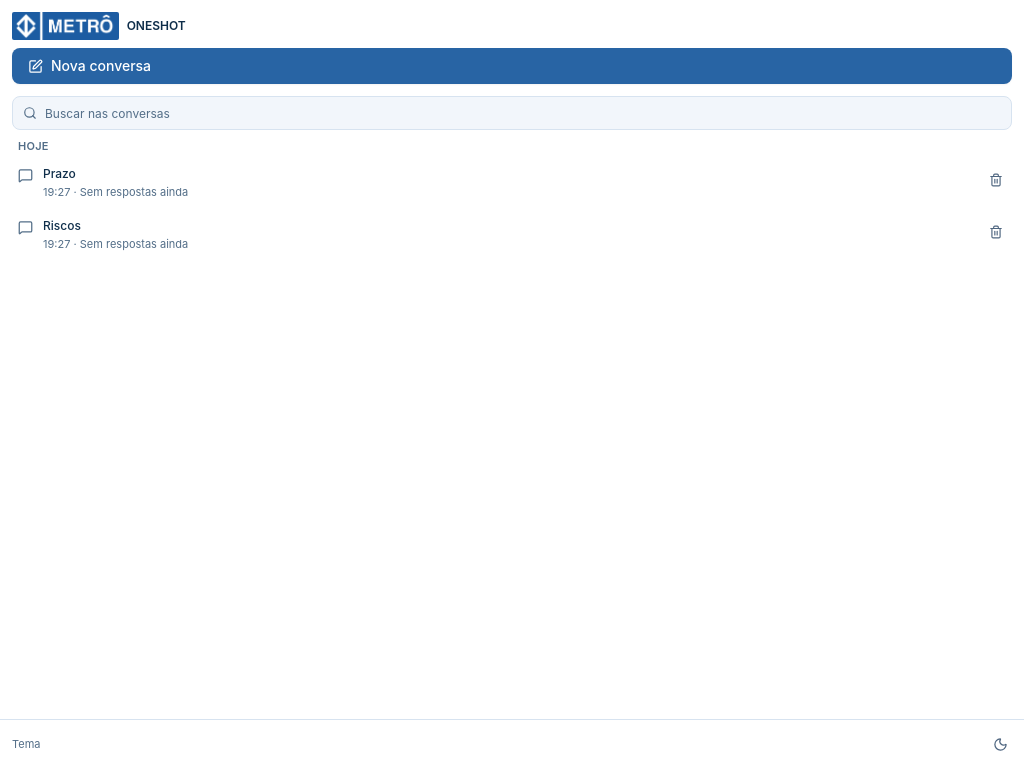
ConversationSidebar › busca por título ou conteúdo ignorando caixa e espaços, e informa ausência
The image size is (1024, 768).
Type "  PRAZO  " into the search field labelled "Buscar nas conversas". click: x=523, y=113
box: [45,97,1001,129]
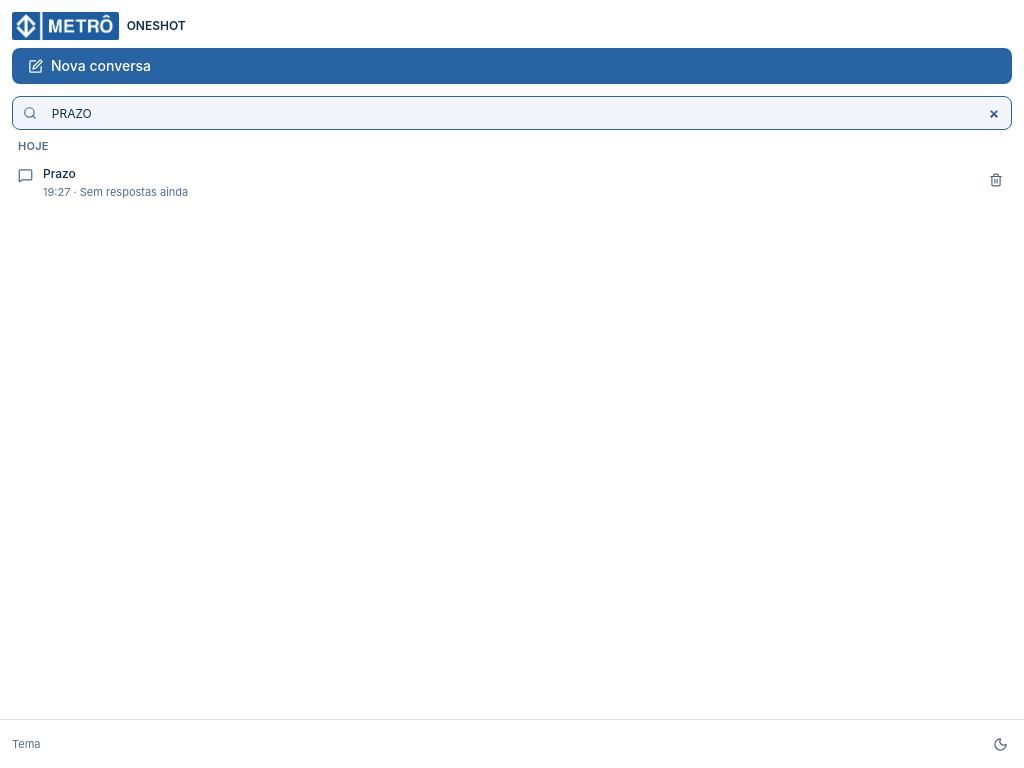
Expected: the button "Prazo 19:27 · Sem respostas ainda" is shown, [8,158,1016,208]
Expected: the button "Riscos" is gone
Replace the text in the search field named "Buscar nas conversas" with "orçamento". click: x=523, y=113
box: [45,97,1001,129]
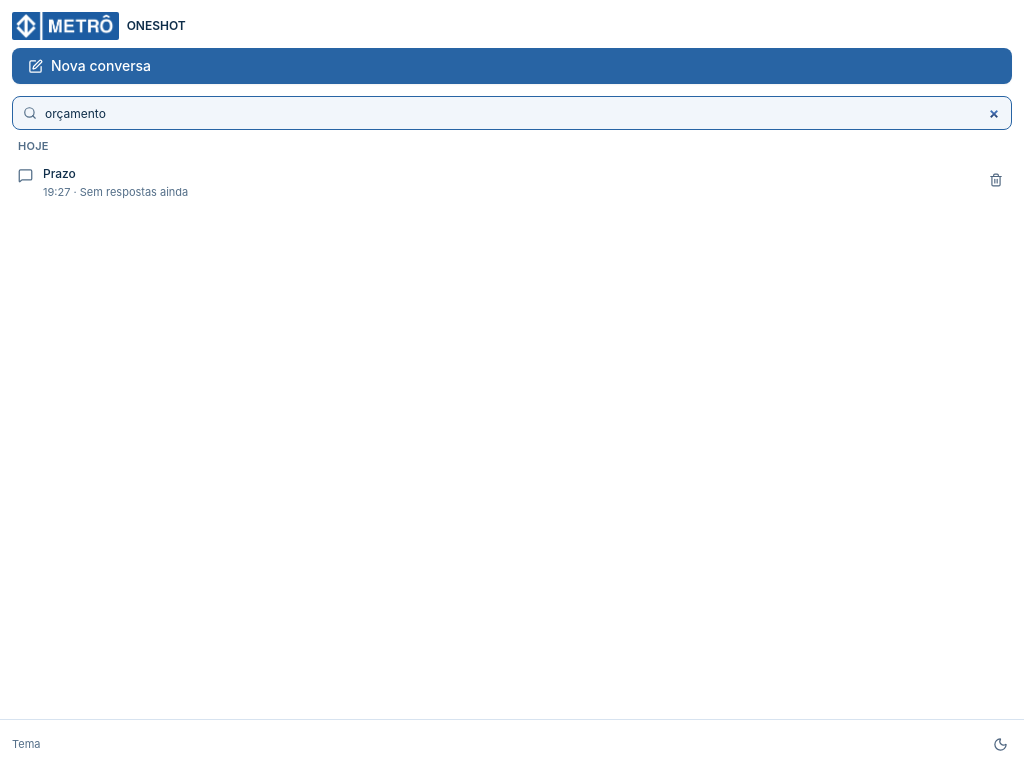
Expected: the button "Prazo 19:27 · Sem respostas ainda" is shown, [8,158,1016,208]
Replace the text in the search field named "Buscar nas conversas" with "inexistente". click: x=523, y=113
box: [45,97,1001,129]
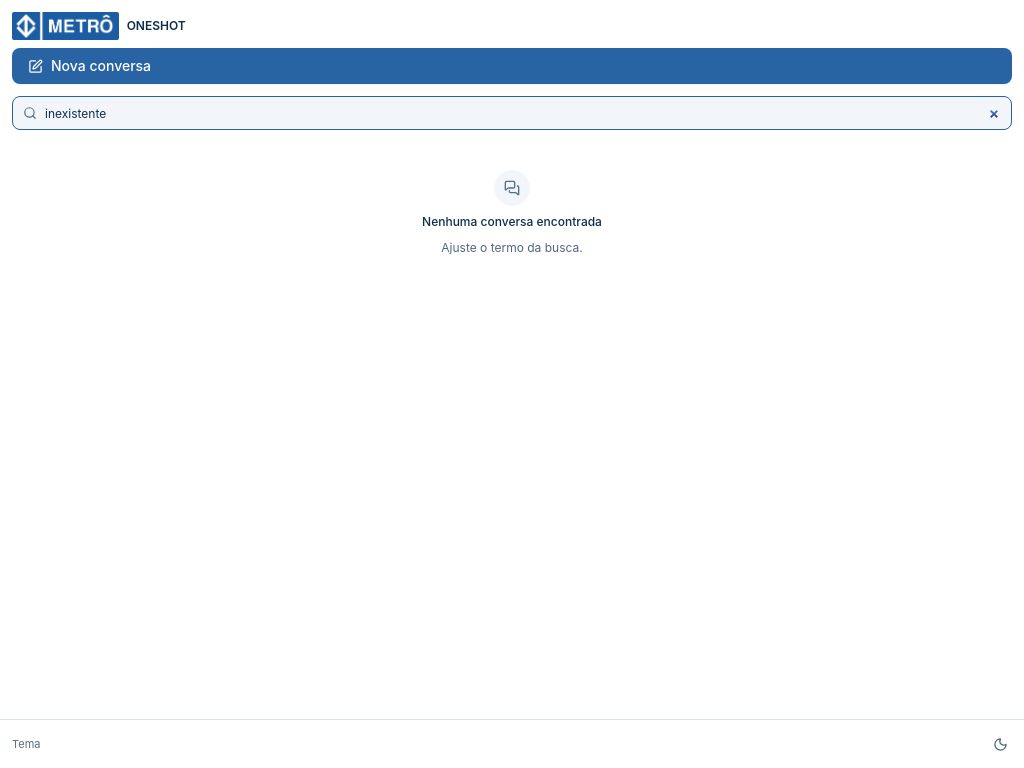
Expected: the text "Nenhuma conversa encontrada" is shown, [422,214,602,230]
